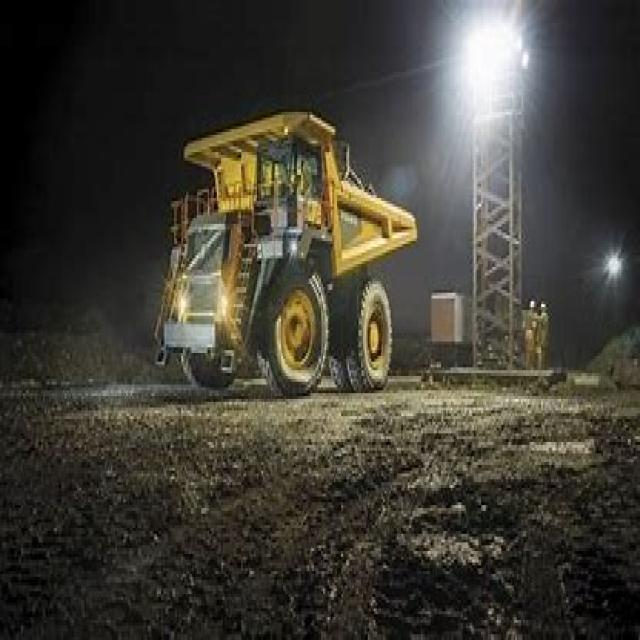dump_truck: (152, 98, 420, 399)
